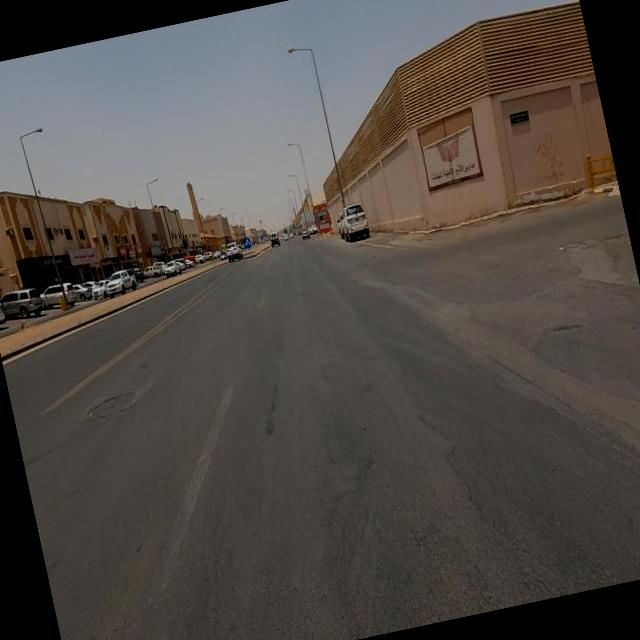debris: (376, 85, 528, 236)
